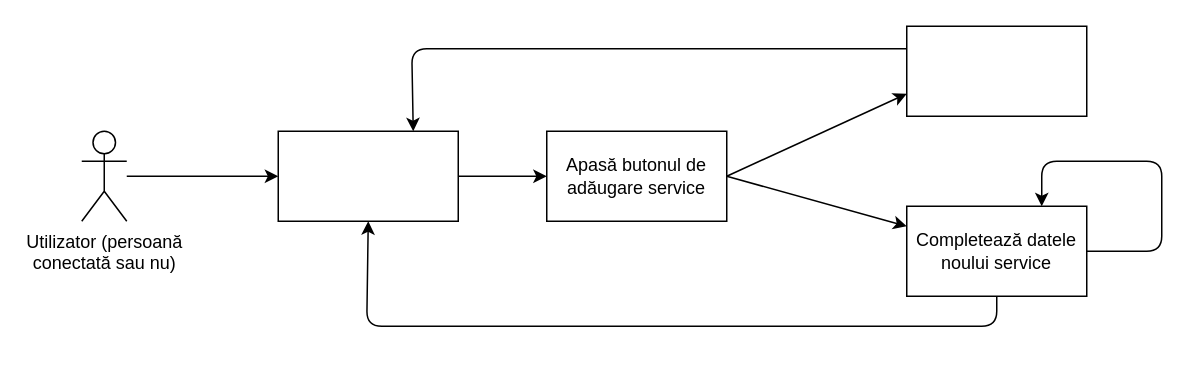
Some shapes in this 1200 by 365 pixel diagram are drawn without their labels. Here are the shapes that lost their labels. From the top down, the centre of each, then its label:
At (x=996, y=70): "Autentificare".
At (x=367, y=175): "Deschide pagina principală".
